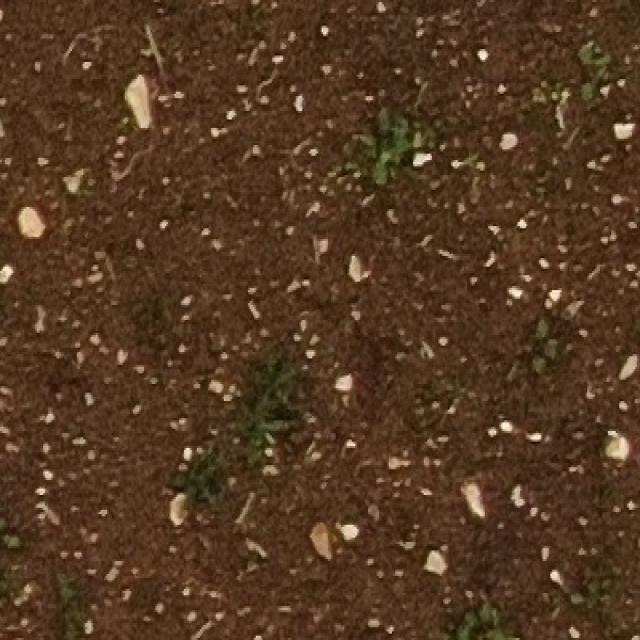cirse: (223, 400, 289, 468), (235, 390, 300, 459), (215, 399, 280, 462)
